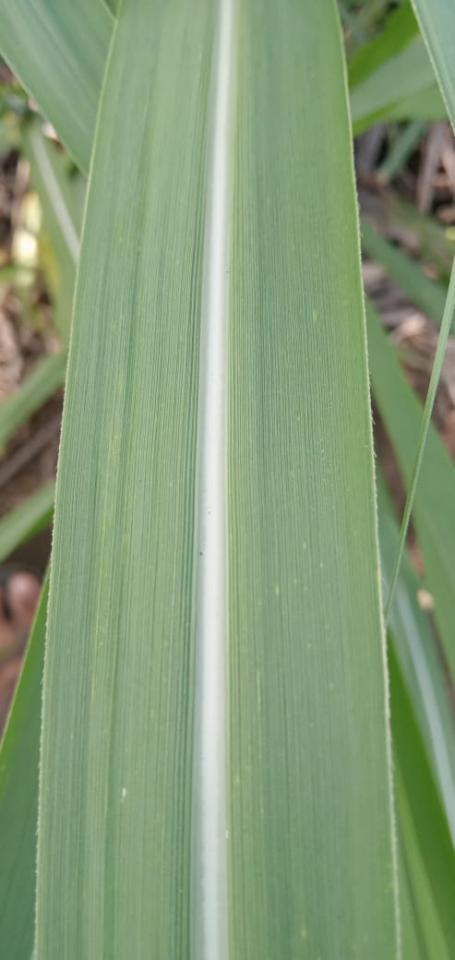Healthy: (37, 0, 221, 959), (232, 0, 395, 959), (0, 570, 49, 959)
